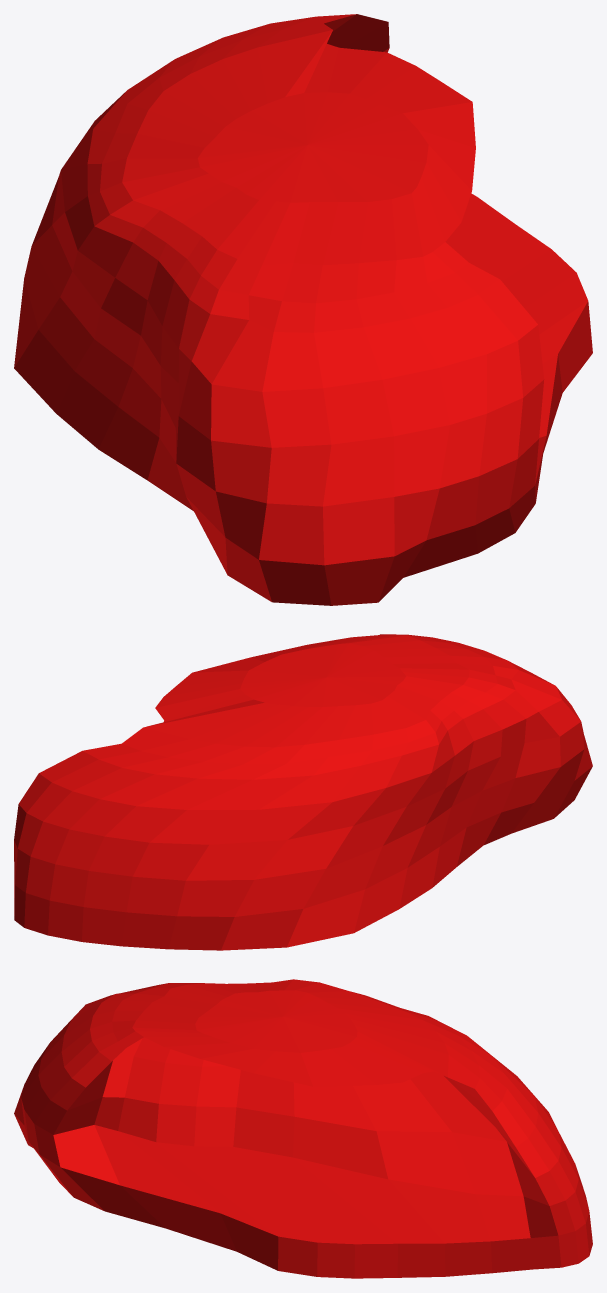
The model's file is hold.fbx.
3 renders of one model, top to bottom at view 1: azimuth 30°, elevation 25°; view 2: azimuth 150°, elevation 25°; view 3: azimuth 270°, elevation 25°, orthographic. The views are drawn at different scales.
Parts seen in each view (by area): view 1: Sphere; view 2: Sphere; view 3: Sphere.
Part boxes in pixels (x1,y1,x2,y2): Sphere: (14,14,592,605); Sphere: (14,634,592,950); Sphere: (14,979,592,1278).
Bounding box in the file's own units: 213 × 100 × 310.
